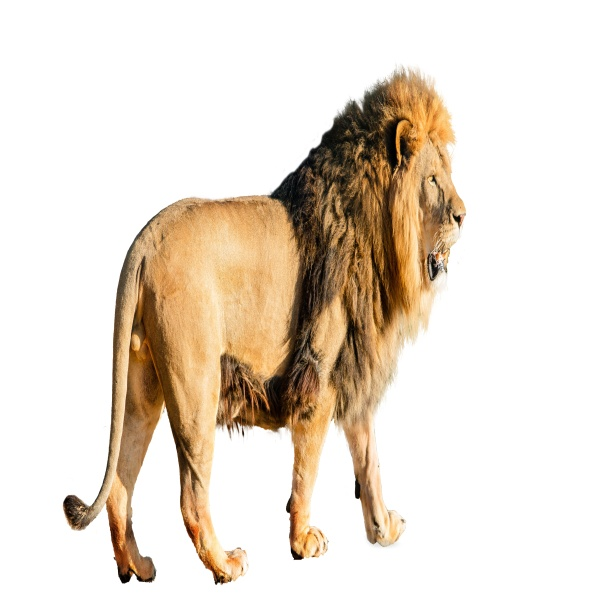Lion: (60, 60, 472, 586)
